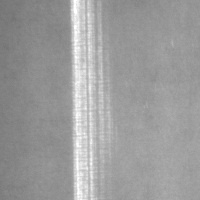scratches: (69, 1, 103, 200)
